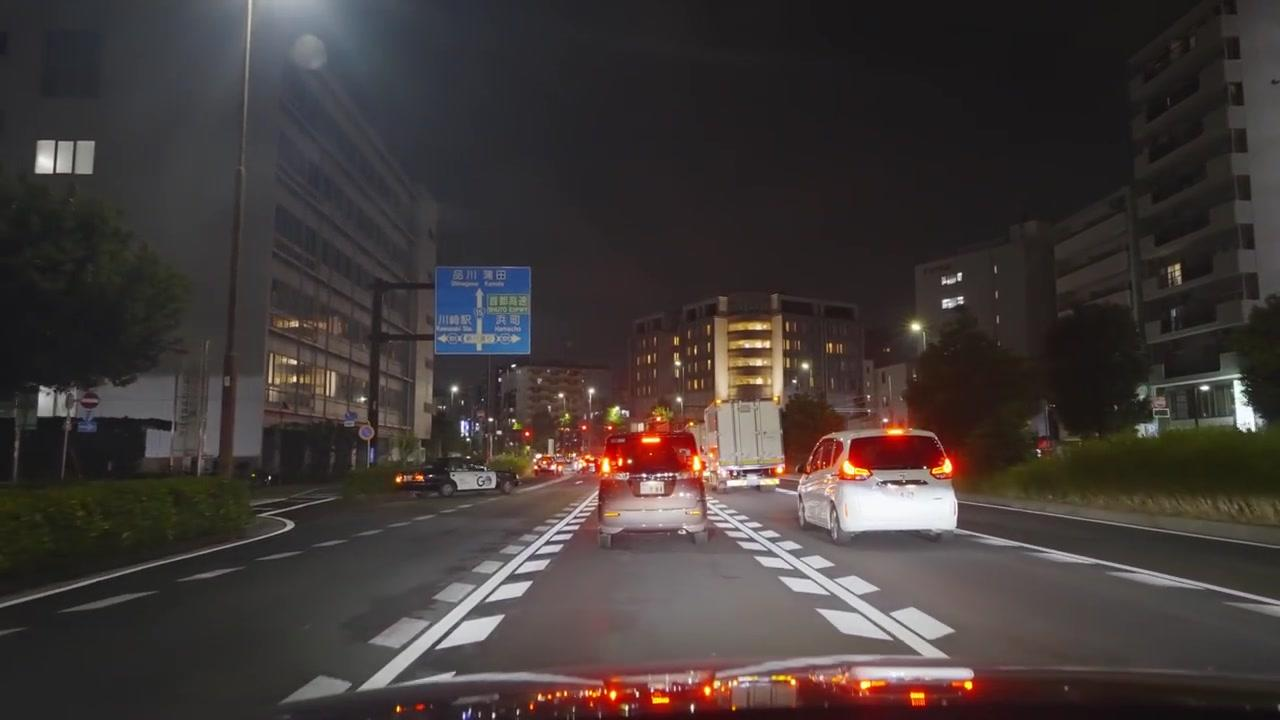bus: (597, 428, 708, 549)
car: (795, 428, 960, 546), (597, 430, 710, 550), (395, 458, 499, 498), (534, 455, 560, 473), (1035, 435, 1056, 457)
traffic light: (523, 425, 534, 438)
truck: (597, 429, 710, 548), (709, 400, 786, 492)
